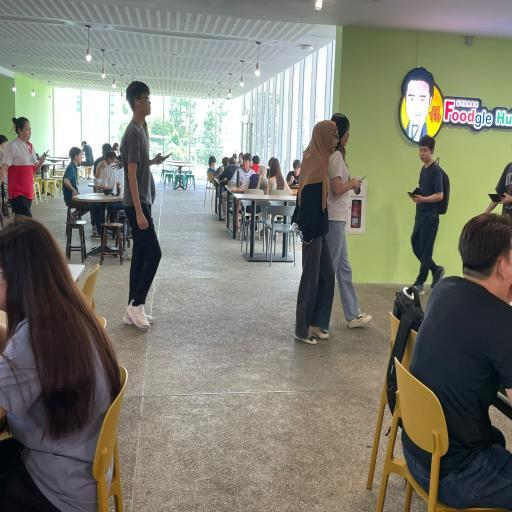person_left: (403, 138, 447, 294)
person_right: (121, 81, 170, 328), (294, 108, 338, 348), (327, 113, 372, 328), (1, 113, 48, 219)
